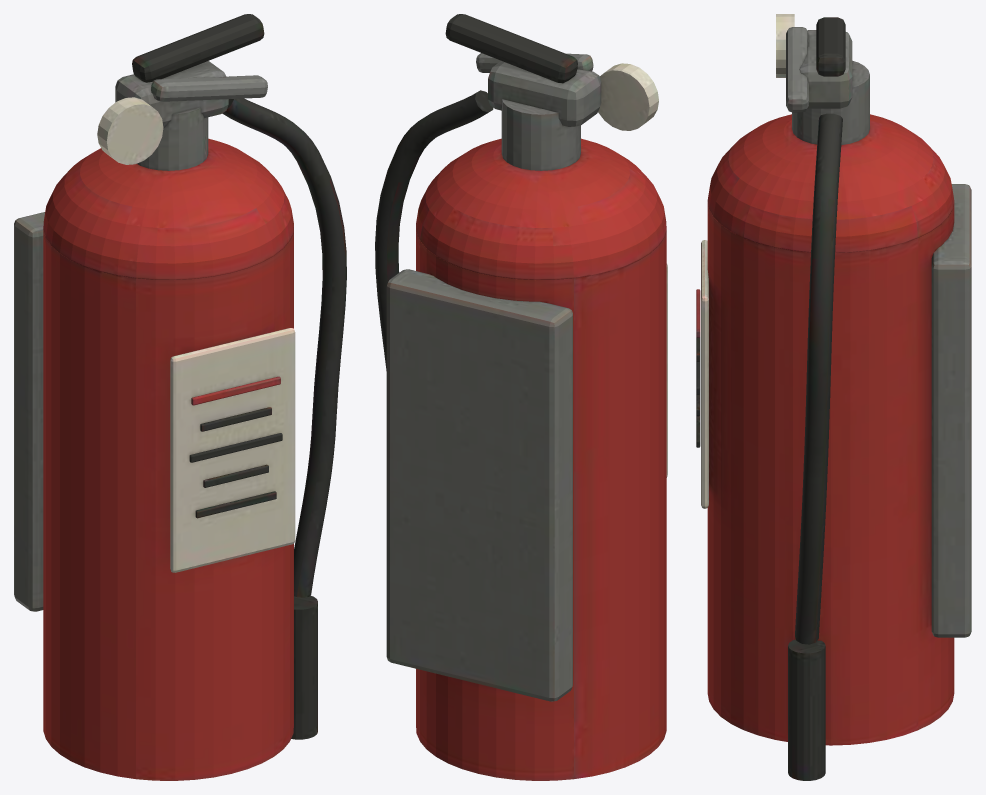
Rendered from dressing-extinguisher.glb.
The picture shows the model from 3 angles, left to right: view 1: azimuth 30°, elevation 25°; view 2: azimuth 150°, elevation 25°; view 3: azimuth 270°, elevation 25°; orthographic projection.
Parts seen in each view (by area): view 1: case-baked; view 2: case-baked; view 3: case-baked.
Part boxes in pixels (left/top/right/bottom): case-baked: left=14, top=14, right=346, bottom=780; case-baked: left=375, top=14, right=667, bottom=780; case-baked: left=696, top=14, right=971, bottom=780.
Bounding box in the file's own units: 0.2363 × 0.5779 × 0.2055.
Materials: 1 (1 with a texture image).
